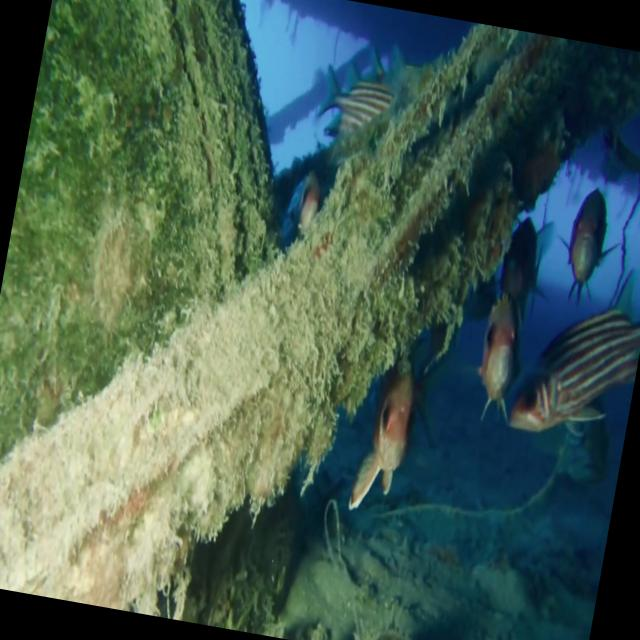Asker Baligi: (492, 254, 640, 485)
